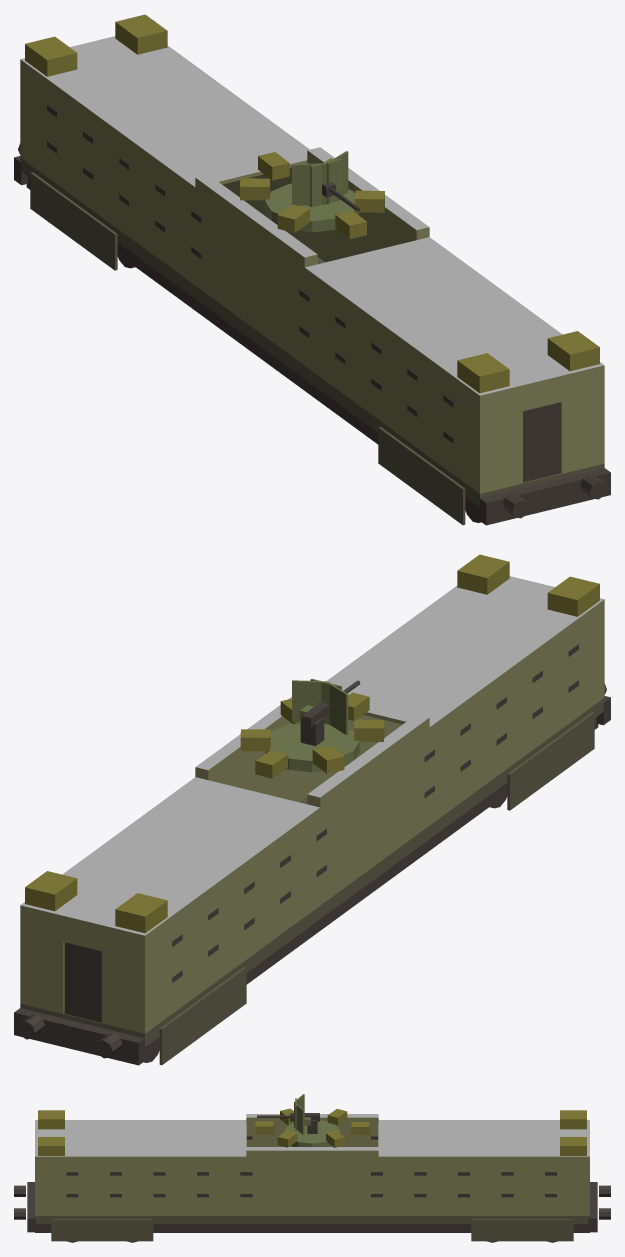
File: SM_R3_VagonBlindado_v2_Faldones_LOD0.fbx
3 renders of one model, top to bottom at view 1: azimuth 30°, elevation 25°; view 2: azimuth 150°, elevation 25°; view 3: azimuth 270°, elevation 25°, orthographic. The views are drawn at different scales.
Visible parts, largest first — view 1: SM_vagon_blindado_v2_LOD0, Torre; view 2: SM_vagon_blindado_v2_LOD0, Torre; view 3: SM_vagon_blindado_v2_LOD0, Torre.
Boxes of the visible parts, x1,y1,x2,y2 form: SM_vagon_blindado_v2_LOD0: (14,14,610,525); Torre: (265,151,360,232); SM_vagon_blindado_v2_LOD0: (14,554,610,1065); Torre: (265,679,360,772); SM_vagon_blindado_v2_LOD0: (14,1108,610,1242); Torre: (257,1094,340,1146).
Size of the model in its own units: 3.06 by 4.75 by 19.9.
